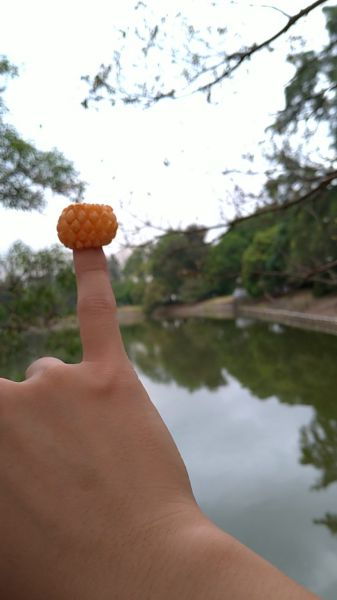eggs: (57, 203, 117, 248)
